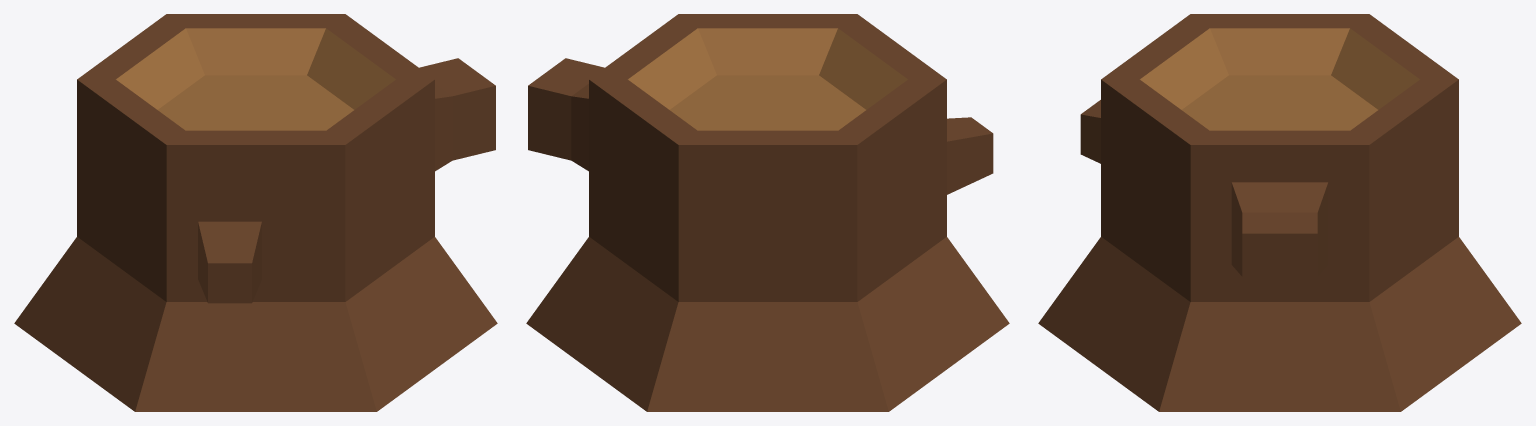
The model's file is stump_round_detailed.glb.
3 renders of one model, left to right at view 1: azimuth 30°, elevation 25°; view 2: azimuth 150°, elevation 25°; view 3: azimuth 270°, elevation 25°, orthographic.
Visible parts, largest first — view 1: stump_roundDetailed; view 2: stump_roundDetailed; view 3: stump_roundDetailed.
Part boxes in pixels (x1,y1,x2,y2): stump_roundDetailed: (14,14,497,411); stump_roundDetailed: (526,14,1009,411); stump_roundDetailed: (1038,14,1521,411).
Bounding box in the file's own units: 0.3565 × 0.2065 × 0.371.
